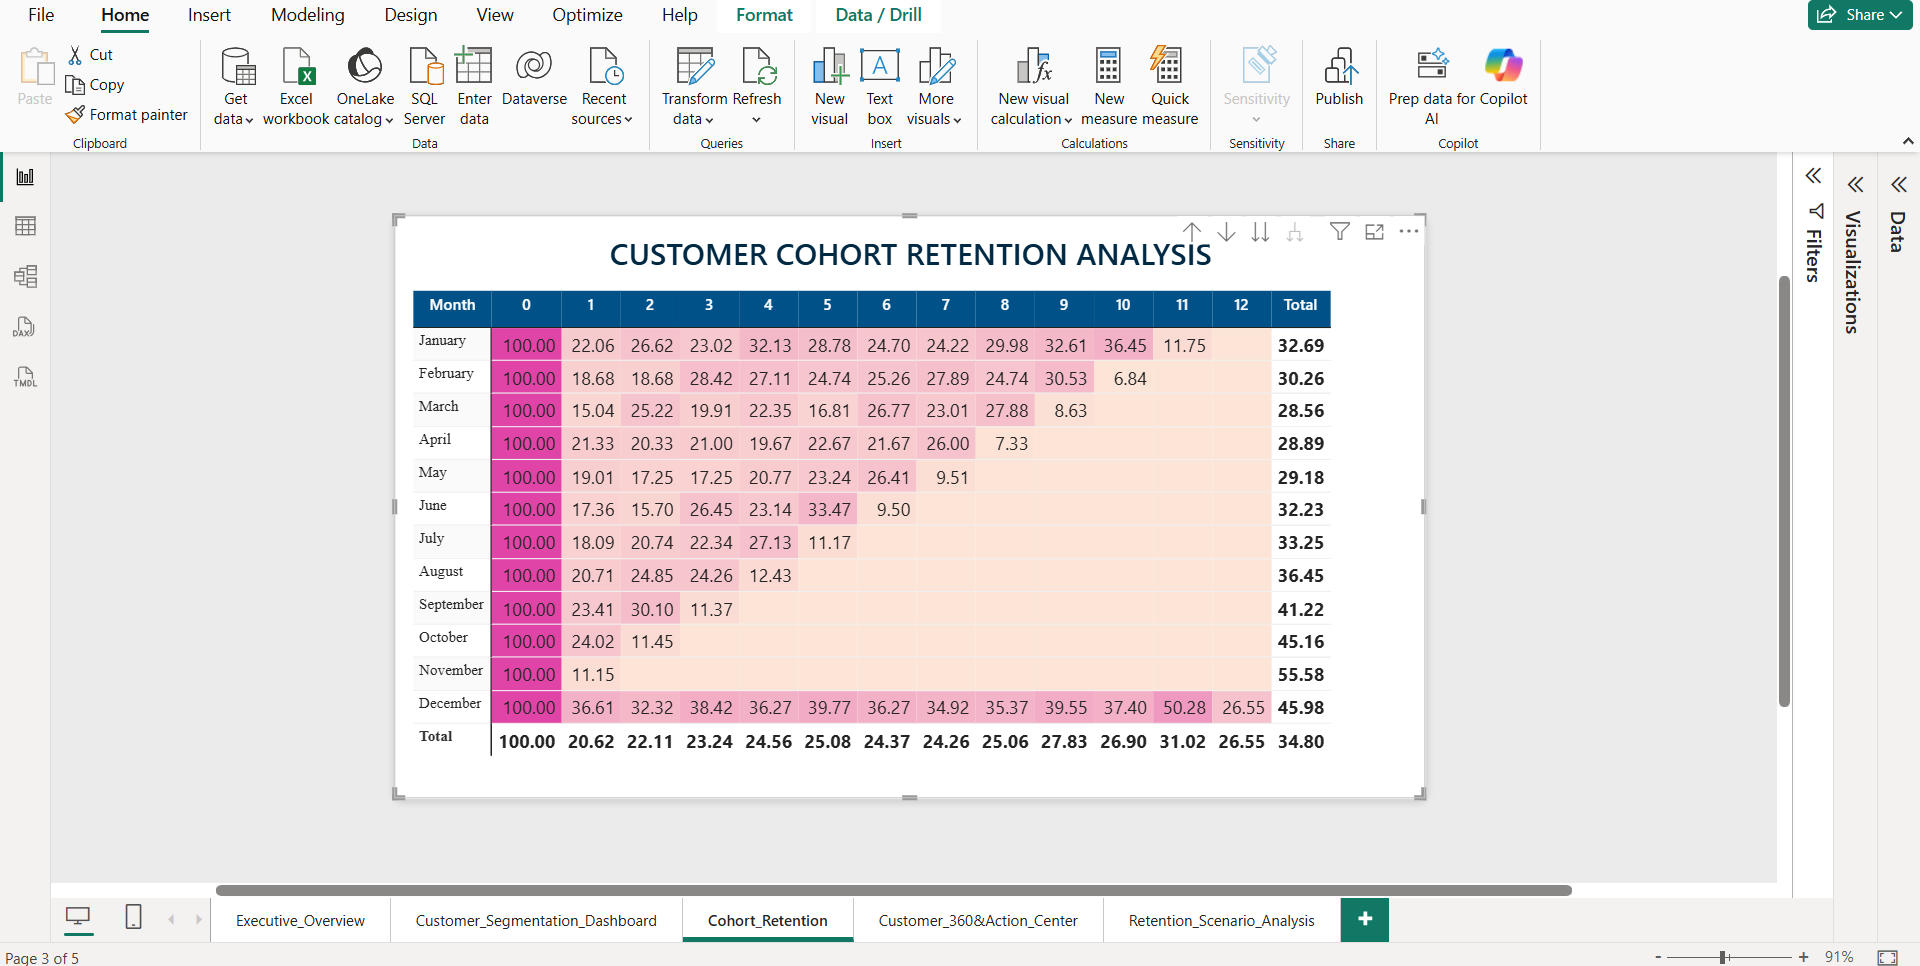

The page's visual inventory and layout, read from the dashboard file:
{"tool":"powerbi","page":{"name":"Cohort_Retention","canvas":[1920,1080],"ordinal":2},"visuals":[{"type":"pivotTable","title":"CUSTOMER COHORT RETENTION ANALYSIS","fields":{"Columns":["cohort_retention.cohort_age"],"Rows":["cohort_retention.cohort_month.Variation.Date Hierarchy.Year","cohort_retention.cohort_month.Variation.Date Hierarchy.Quarter","cohort_retention.cohort_month.Variation.Date Hierarchy.Month","cohort_retention.cohort_month.Variation.Date Hierarchy.Day"],"Values":["Avg(cohort_retention.retention_rate)"]},"box":[476,230,906,568],"z":0}]}

Visuals, with their boxes on the page's 1920x1080 design canvas (x1, y1, x2, y2). These are canvas units, not pixel positions in the 1920x966 screenshot, which may show the page scaled, cropped or inside an application window:
"CUSTOMER COHORT RETENTION ANALYSIS" pivotTable: BBox(476, 230, 1382, 798)
